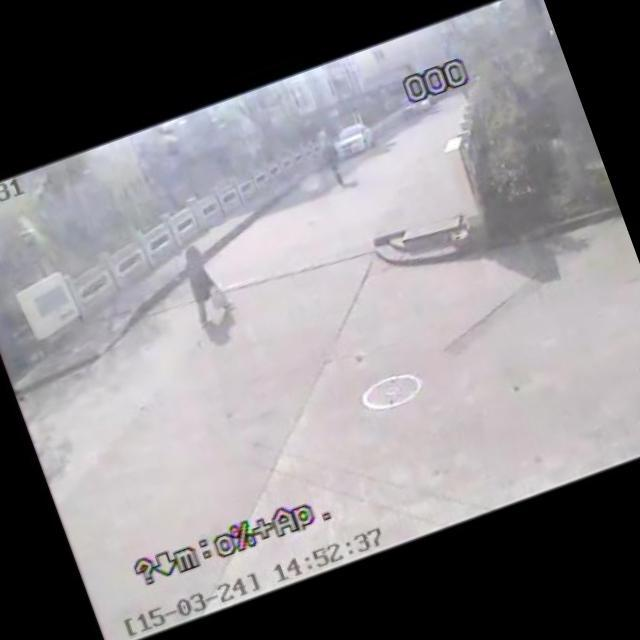person: (171, 237, 243, 331)
